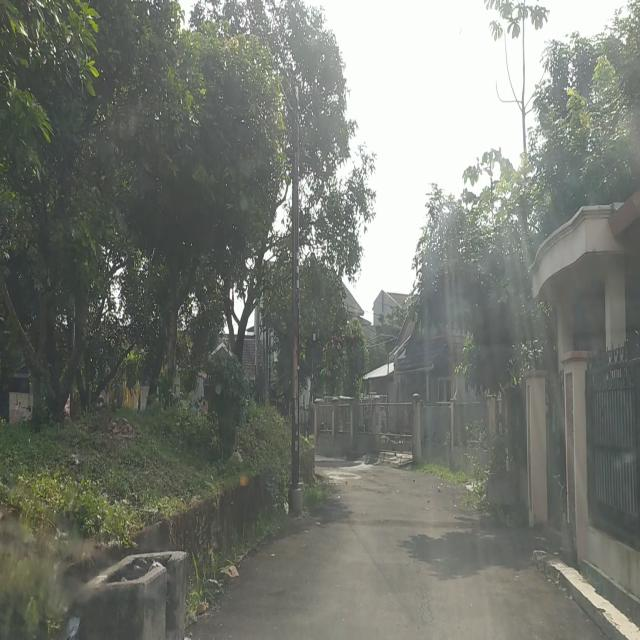Drain Hole: (410, 542, 435, 639)
